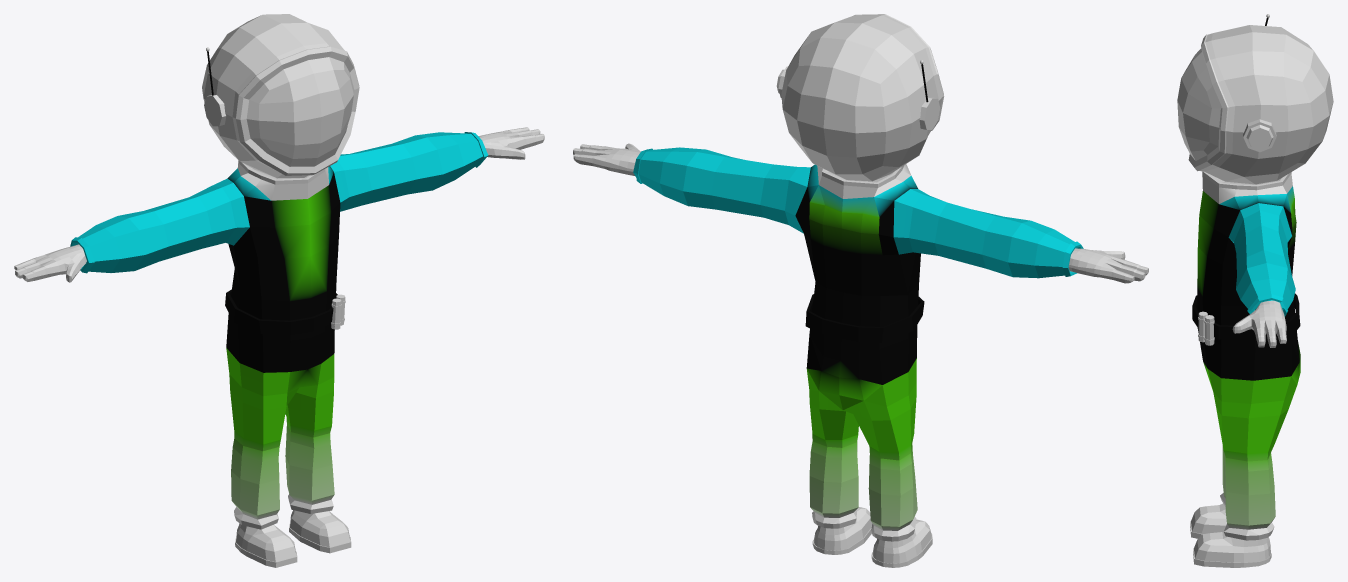
The model's file is Astro_01.fbx.
The picture shows the model from 3 angles, left to right: view 1: azimuth 30°, elevation 25°; view 2: azimuth 150°, elevation 25°; view 3: azimuth 270°, elevation 25°; orthographic projection. The views are drawn at different scales.
Visible parts, largest first — view 1: Astro_01; view 2: Astro_01; view 3: Astro_01.
Boxes of the visible parts, x1,y1,x2,y2 form: Astro_01: (14,14,544,567); Astro_01: (573,14,1148,567); Astro_01: (1177,14,1333,567).
Size of the model in its own units: 212 by 193 by 53.39.
